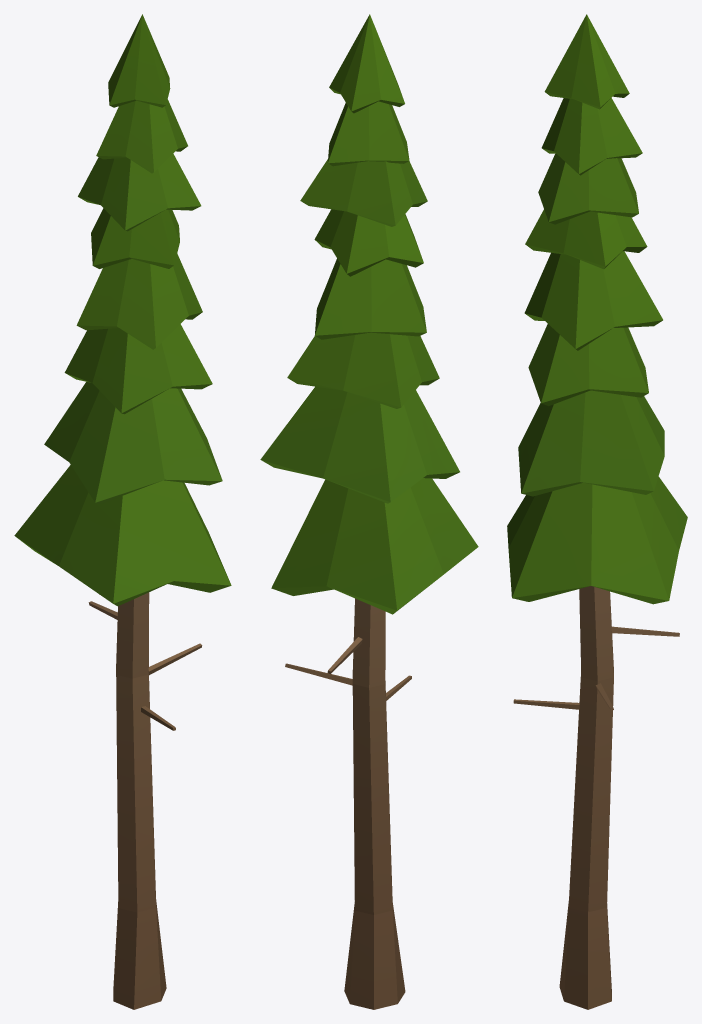
The model's file is SM_Nature_Tree_05.fbx.
The picture shows the model from 3 angles, left to right: view 1: azimuth 30°, elevation 25°; view 2: azimuth 150°, elevation 25°; view 3: azimuth 270°, elevation 25°; orthographic projection.
Visible parts, largest first — view 1: SM_Nature_Tree_05_LOD0; view 2: SM_Nature_Tree_05_LOD0; view 3: SM_Nature_Tree_05_LOD0.
Part boxes in pixels (x1,y1,x2,y2): SM_Nature_Tree_05_LOD0: (14,14,231,1009); SM_Nature_Tree_05_LOD0: (260,14,478,1009); SM_Nature_Tree_05_LOD0: (507,14,687,1009).
Bounding box in the file's own units: 1.01 × 6.14 × 1.02.
